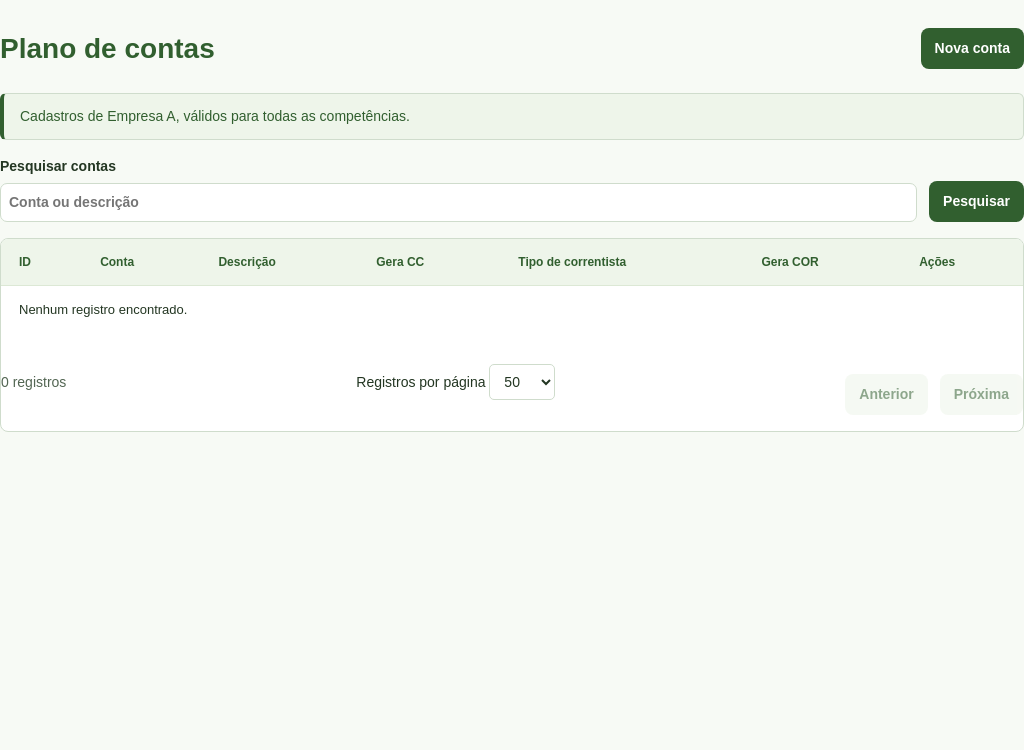
Scenario: creates an account and displays the actual normalized server result
Check: the text "Nenhum registro encontrado." is shown, box x1=1 y1=286 x2=1023 y2=334
Click the button "Nova conta". click: (972, 48)
box: x1=920 y1=28 x2=1023 y2=69
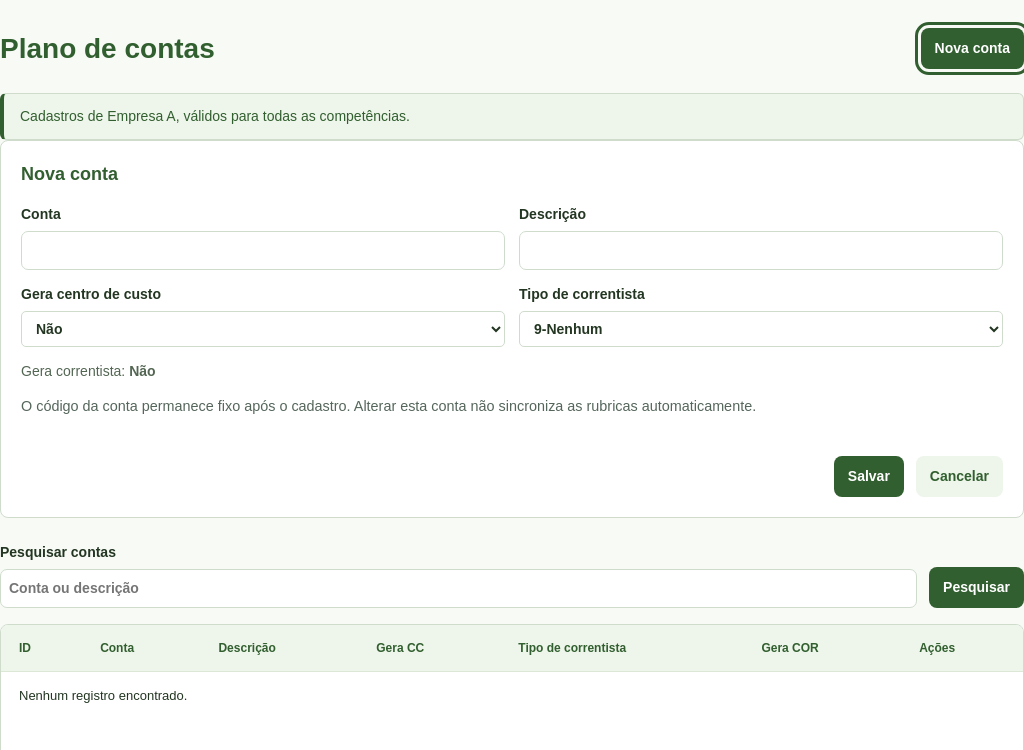
Type "00.123" into the field labelled "Conta". click: (263, 250)
box: x1=21 y1=231 x2=505 y2=270
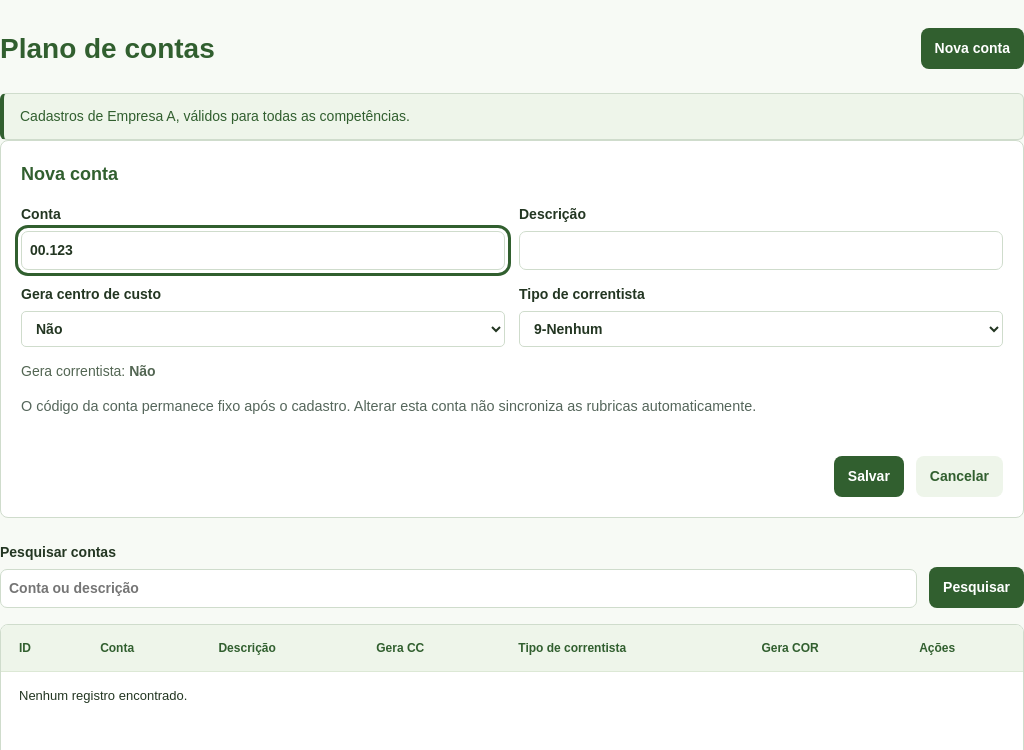
Type "Salários" into the field labelled "Descrição". click: (761, 250)
box: x1=519 y1=231 x2=1003 y2=270
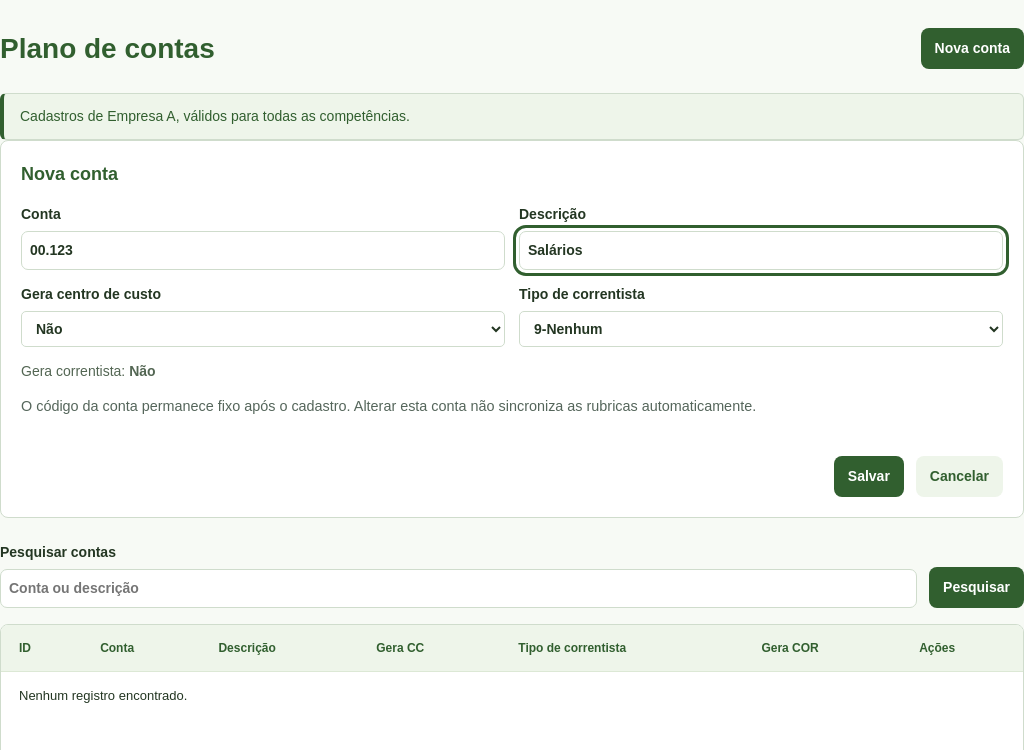
Select "Sim" in the dropdown labelled "Gera centro de custo". click: (263, 329)
box: x1=21 y1=311 x2=505 y2=347
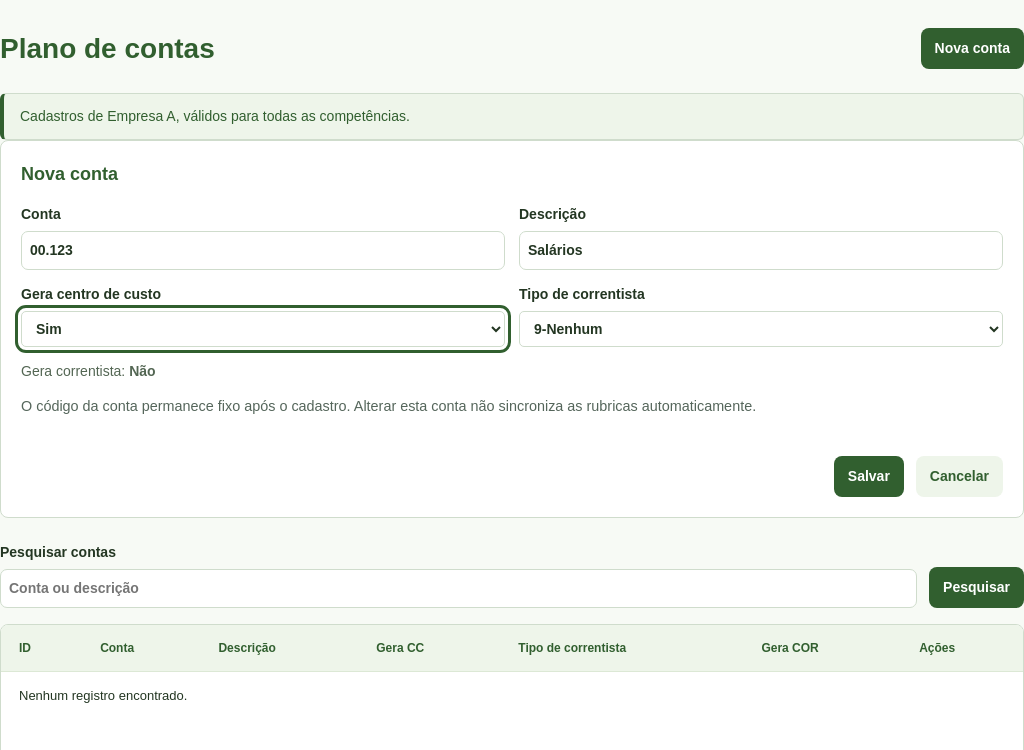
Select "2-Parceiro" in the dropdown labelled "Tipo de correntista". click: (761, 329)
box: x1=519 y1=311 x2=1003 y2=347
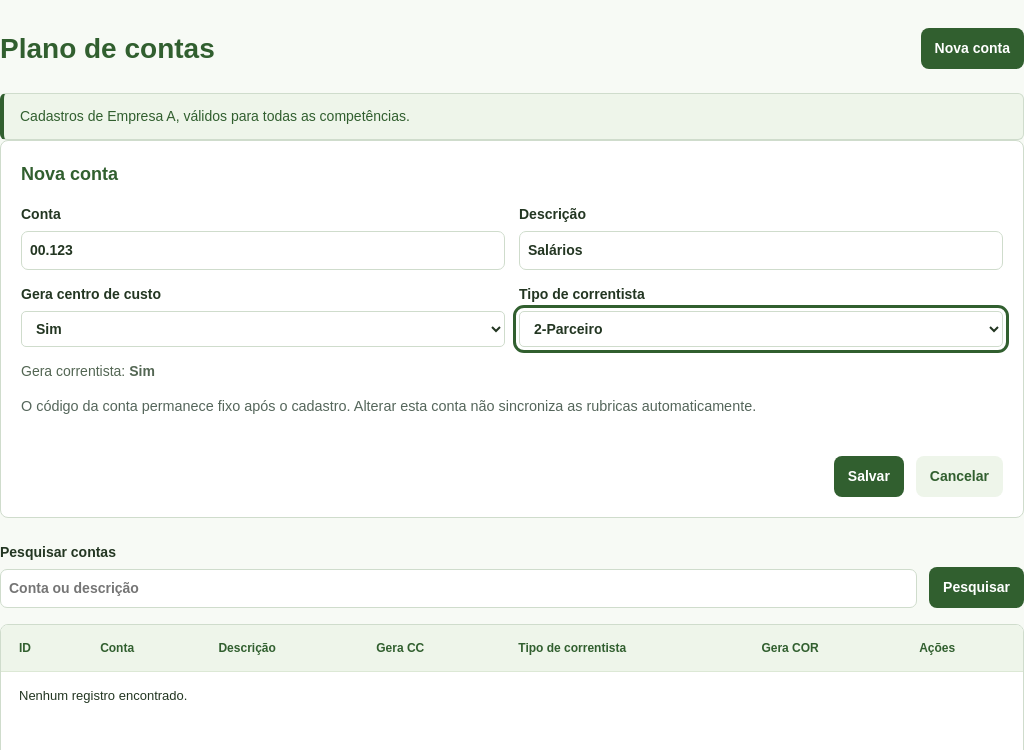
Click the button "Salvar". click: (869, 476)
box: x1=834 y1=456 x2=904 y2=497
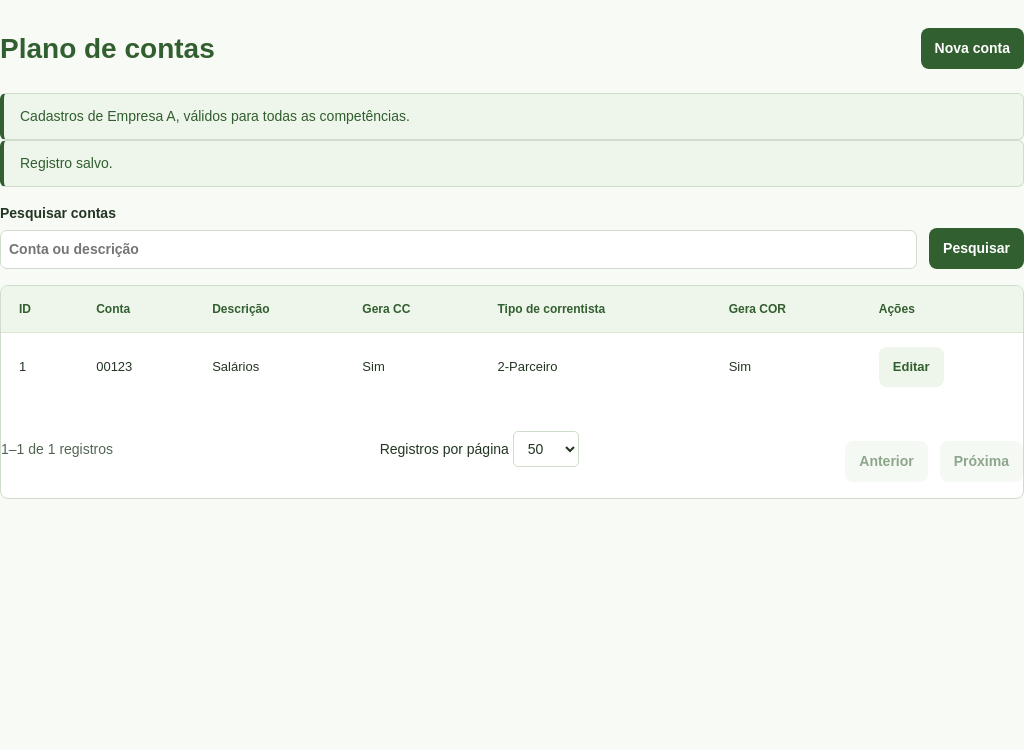
Check: the text "Registro salvo." is shown, box x1=0 y1=140 x2=1023 y2=187
Check: the text "00123" is shown, box x1=78 y1=333 x2=194 y2=400
